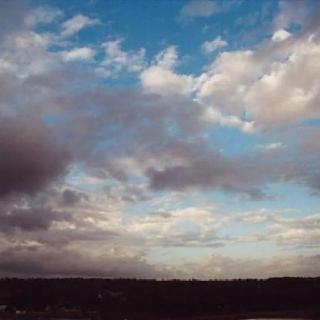Stratocumulus: (0, 0, 320, 284)
